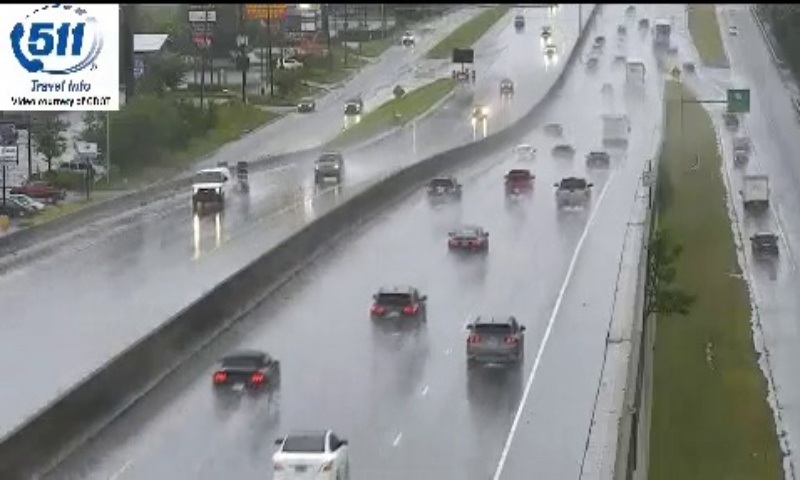car: (271, 430, 349, 480), (214, 352, 281, 401), (466, 318, 523, 367), (371, 287, 426, 331), (448, 226, 488, 257), (555, 177, 592, 209), (503, 169, 535, 196), (426, 175, 458, 201)
